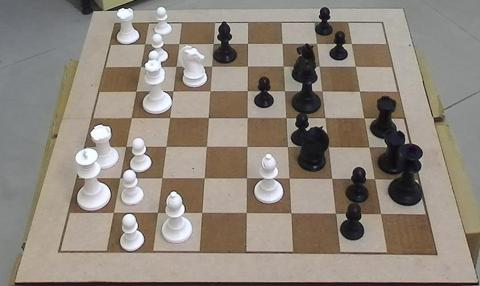xcorner: (312, 39, 322, 49), (277, 39, 287, 49), (242, 39, 252, 49), (173, 40, 183, 50), (139, 40, 149, 50), (351, 61, 361, 71), (278, 62, 288, 72), (242, 62, 252, 72), (206, 62, 216, 72), (355, 86, 365, 96), (317, 86, 327, 96), (279, 86, 289, 96), (167, 87, 177, 97), (360, 113, 370, 123), (320, 113, 330, 123), (281, 113, 291, 123), (203, 113, 213, 123), (164, 113, 174, 123), (365, 142, 375, 152), (282, 142, 292, 152), (241, 142, 251, 152), (201, 142, 211, 152), (160, 142, 170, 152), (120, 142, 130, 152), (327, 174, 337, 184), (284, 174, 294, 184), (241, 174, 251, 184), (331, 209, 341, 219), (286, 209, 296, 219), (241, 209, 251, 219), (152, 208, 162, 218), (108, 208, 118, 218), (347, 39, 357, 48), (208, 40, 218, 49), (314, 62, 324, 71), (171, 62, 180, 72), (135, 63, 145, 72), (242, 87, 252, 96), (131, 87, 140, 97), (242, 113, 251, 123), (126, 113, 135, 123), (324, 142, 333, 152), (371, 174, 380, 184), (199, 174, 208, 184), (156, 174, 166, 183), (114, 174, 124, 183), (377, 210, 387, 219), (196, 209, 206, 218), (205, 87, 214, 96)
